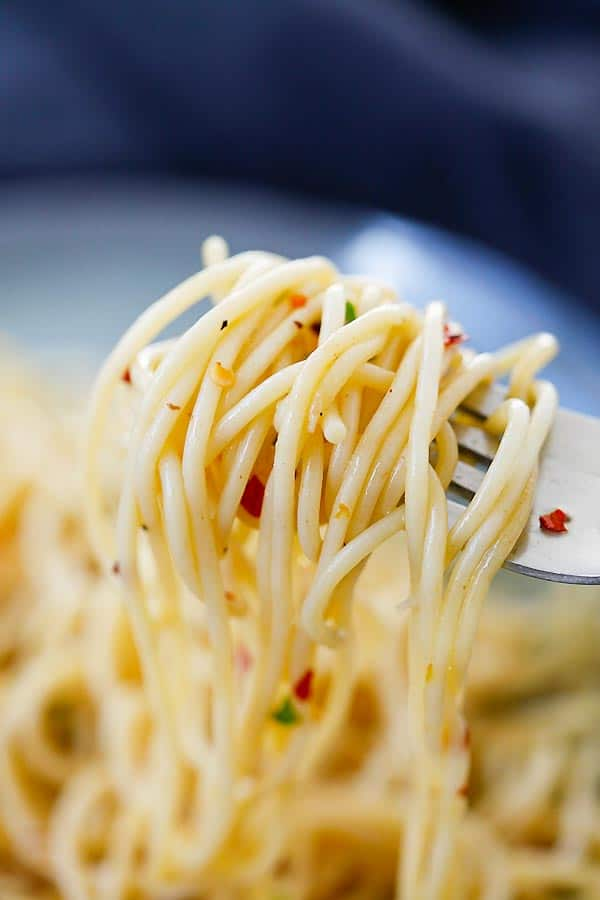plain spaghetti: (130, 290, 407, 513)
